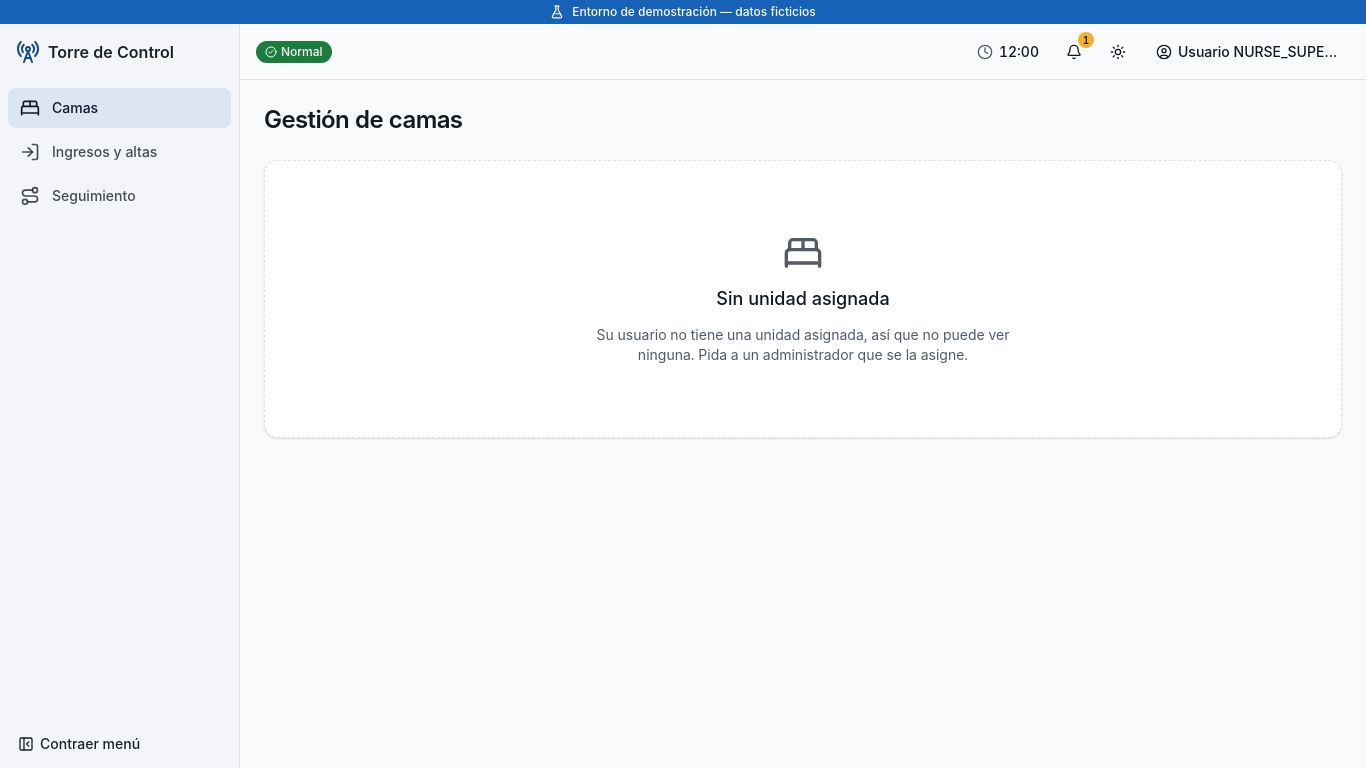
Test case: alert centre › a nurse supervisor only sees their own unit and may acknowledge it
The image size is (1366, 768).
Click the button named "Alertas: 1 alerta sin reconocer (aviso)": (1074, 52) 1056,34 -> 1092,70
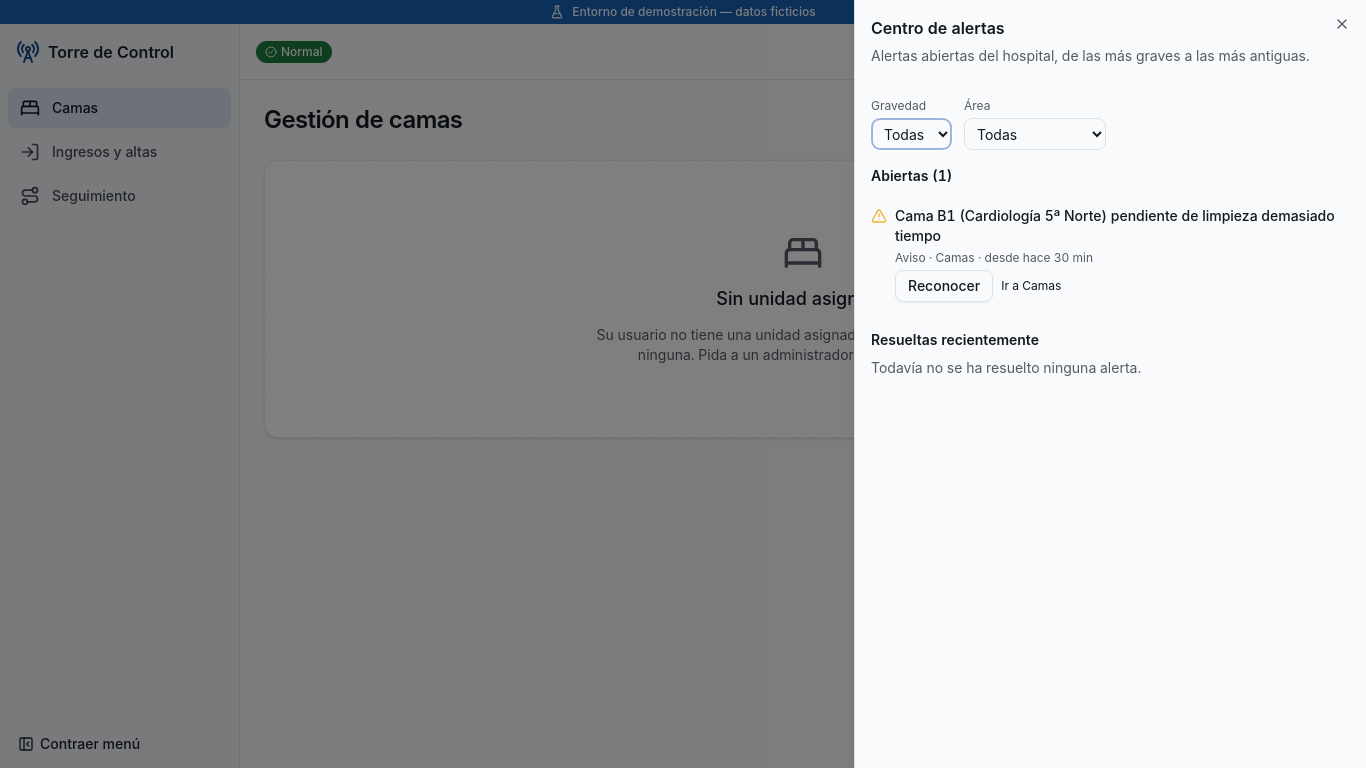
expect the button "Reconocer" is shown: met, box 895,270 -> 993,302
